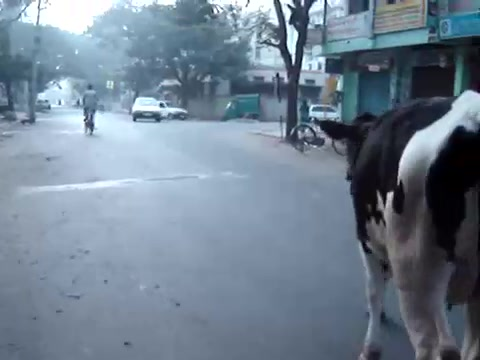cow: (318, 90, 480, 360)
